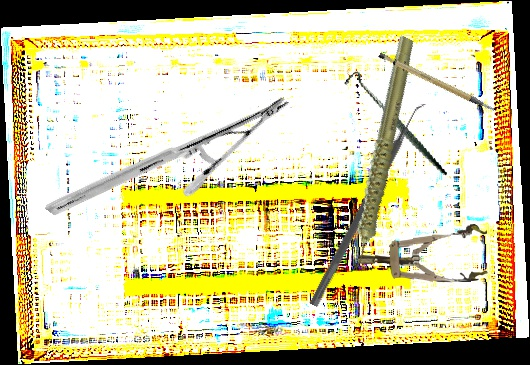Handpiece: (295, 34, 462, 276)
Hook Surgical: (341, 54, 448, 196)
Needle Holder: (44, 22, 291, 290)
Scalpel Handle: (376, 37, 496, 130)
Spatula Surgical: (308, 97, 432, 313)
Speculum: (356, 223, 490, 288)
